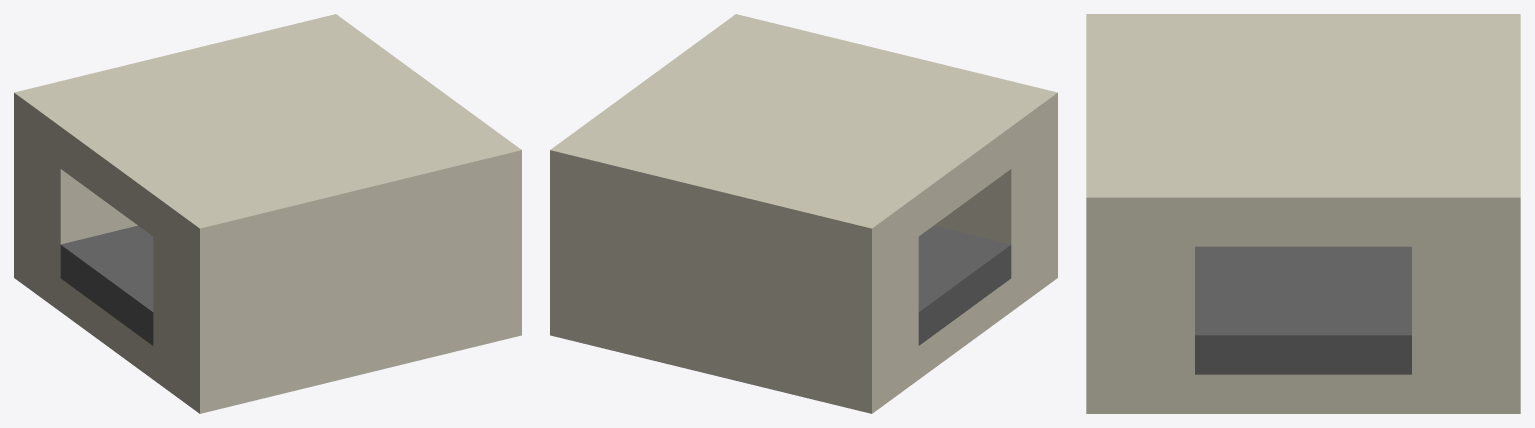
Rendered from roadTile_221.fbx.
3 renders of one model, left to right at view 1: azimuth 30°, elevation 25°; view 2: azimuth 150°, elevation 25°; view 3: azimuth 270°, elevation 25°, orthographic. The views are drawn at different scales.
Visible parts, largest first — view 1: roadTile_221; view 2: roadTile_221; view 3: roadTile_221.
Part boxes in pixels (x1,y1,x2,y2): roadTile_221: (14,14,521,413); roadTile_221: (550,14,1057,413); roadTile_221: (1086,14,1520,413).
Size of the model in its own units: 118 by 64.96 by 118.
